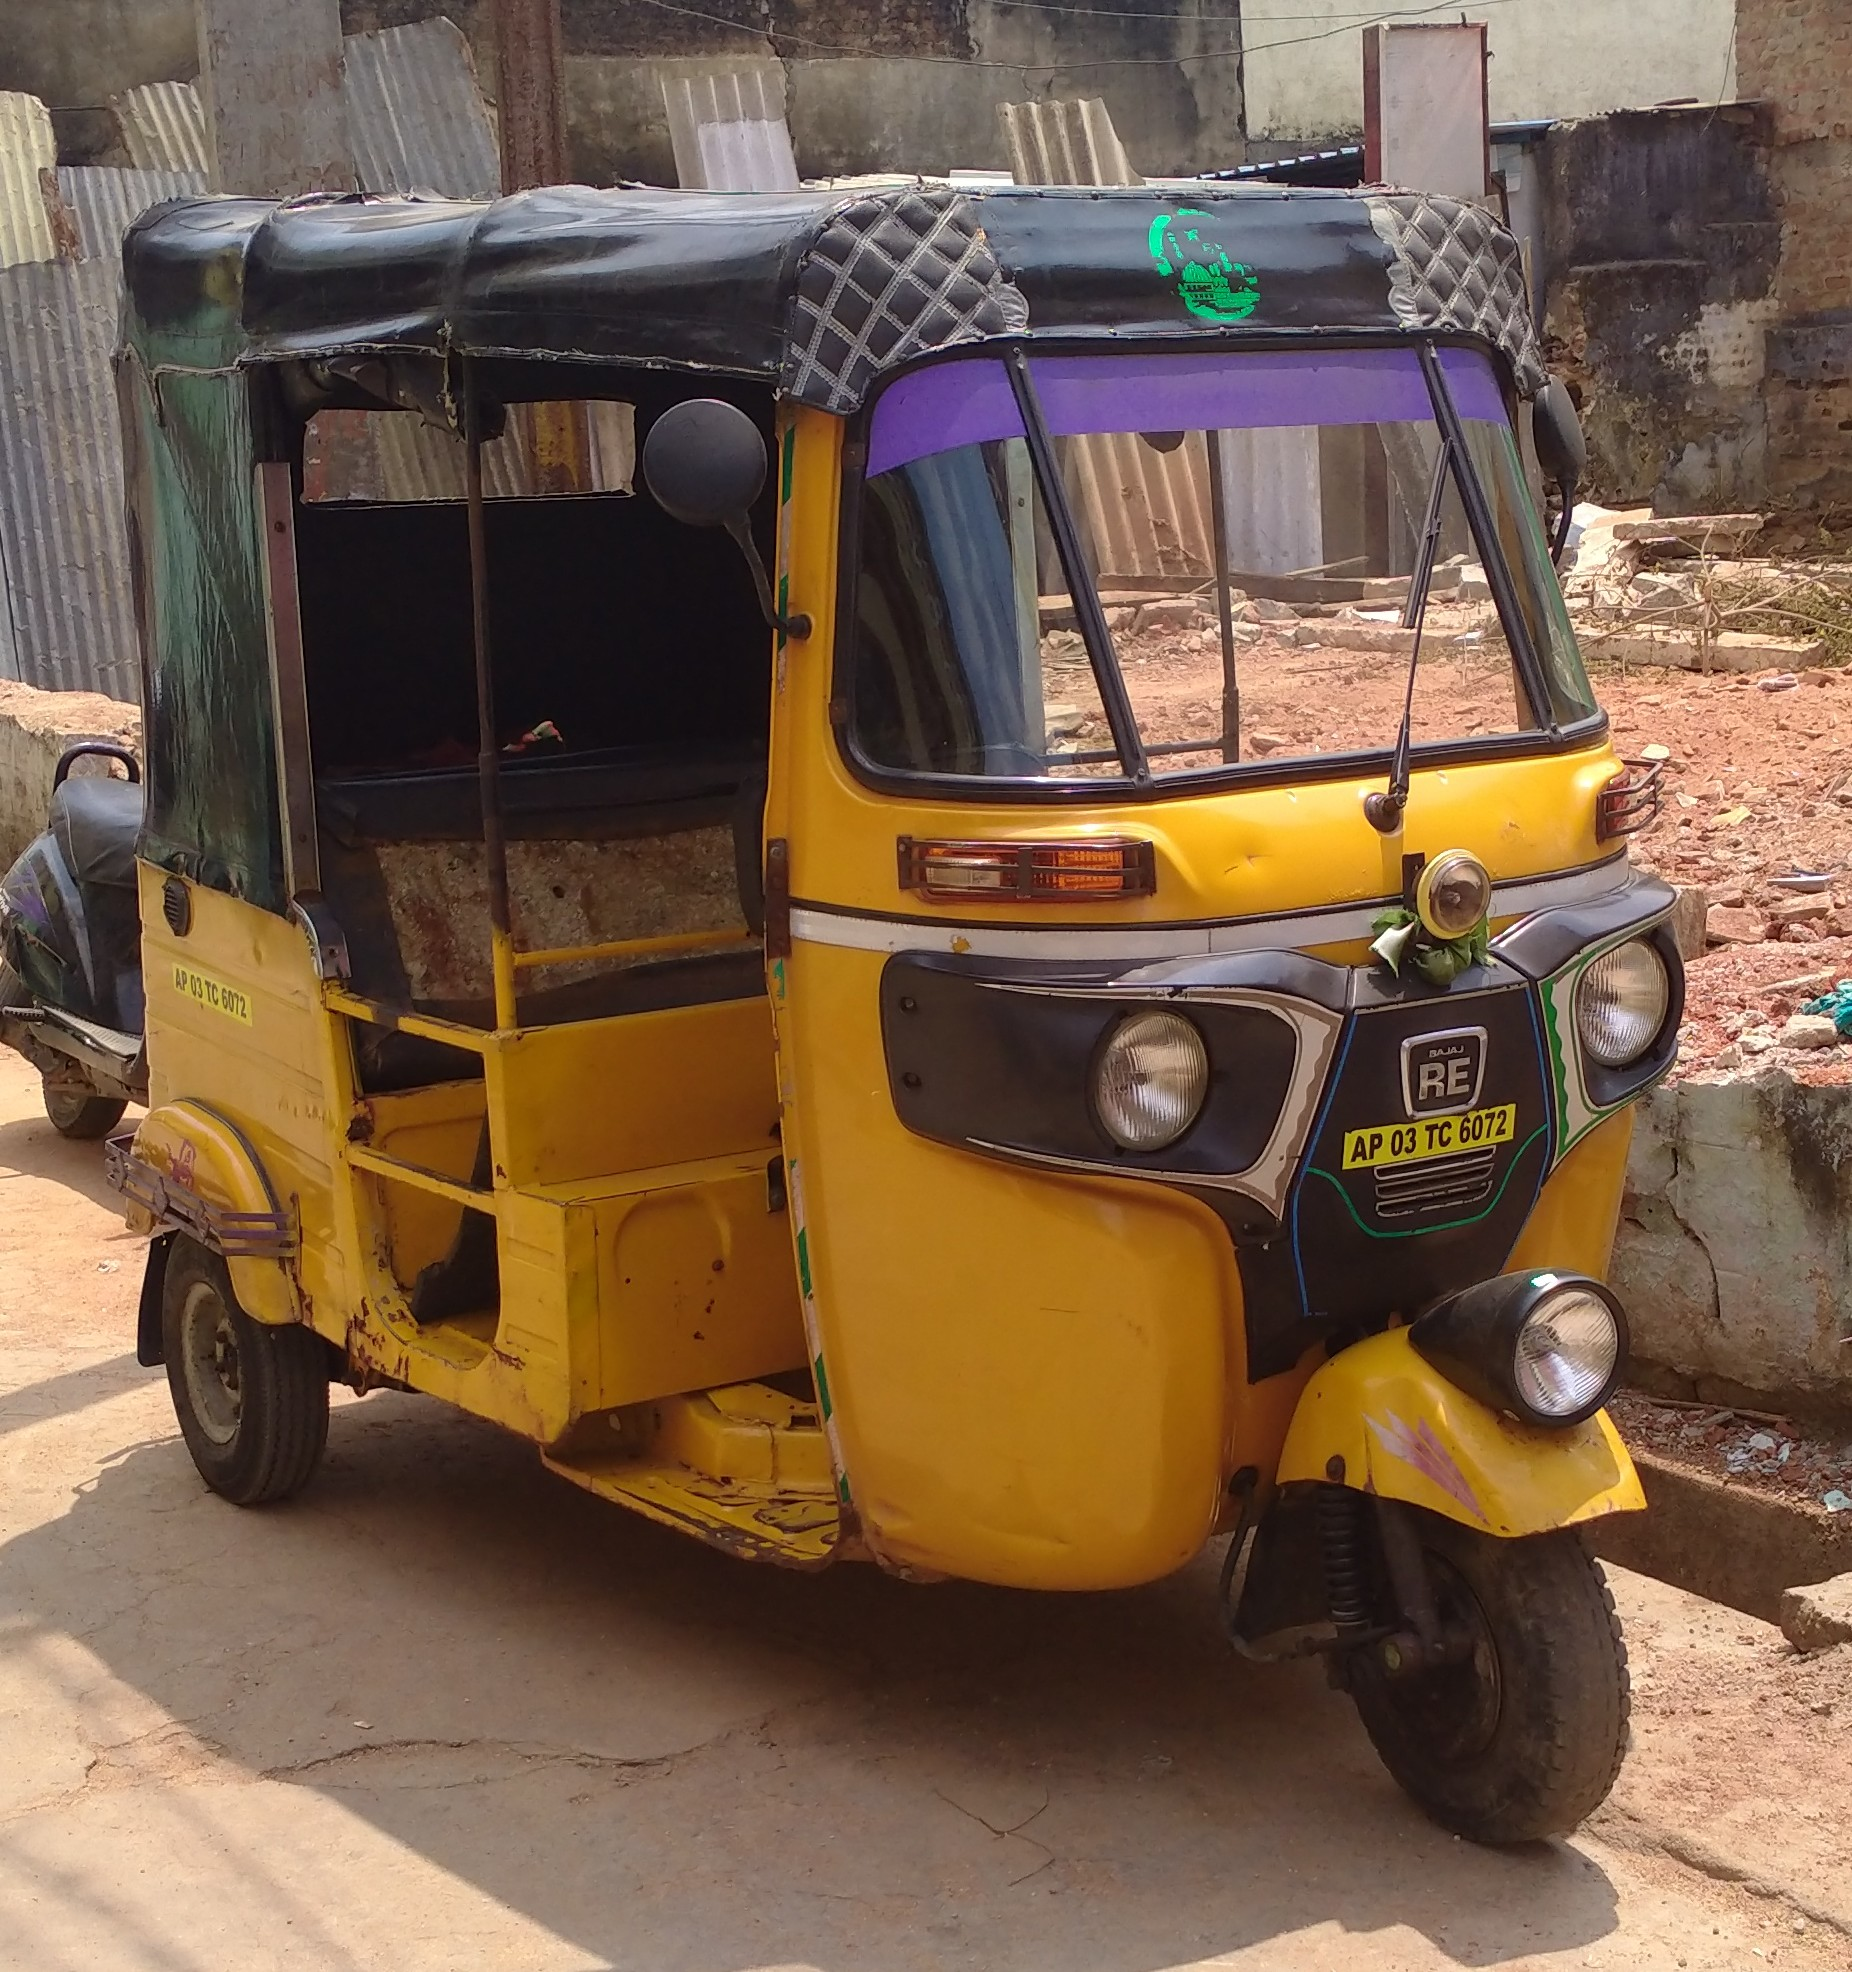auto: (84, 138, 1706, 1906)
number_plate: (1330, 1108, 1532, 1167)
